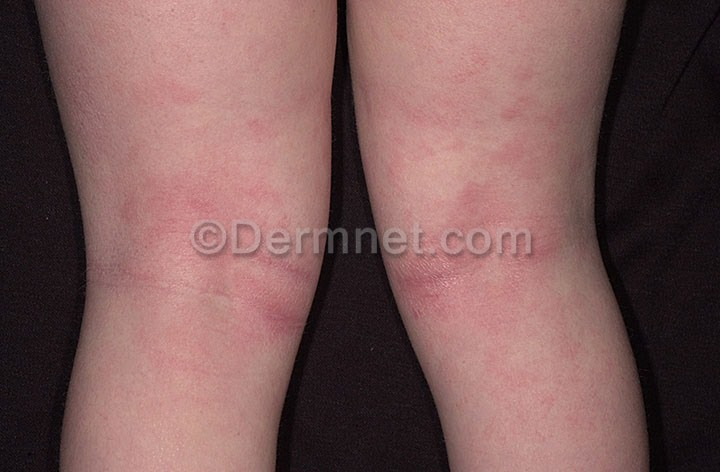Eczema: (51, 5, 322, 470), (355, 4, 622, 472)
